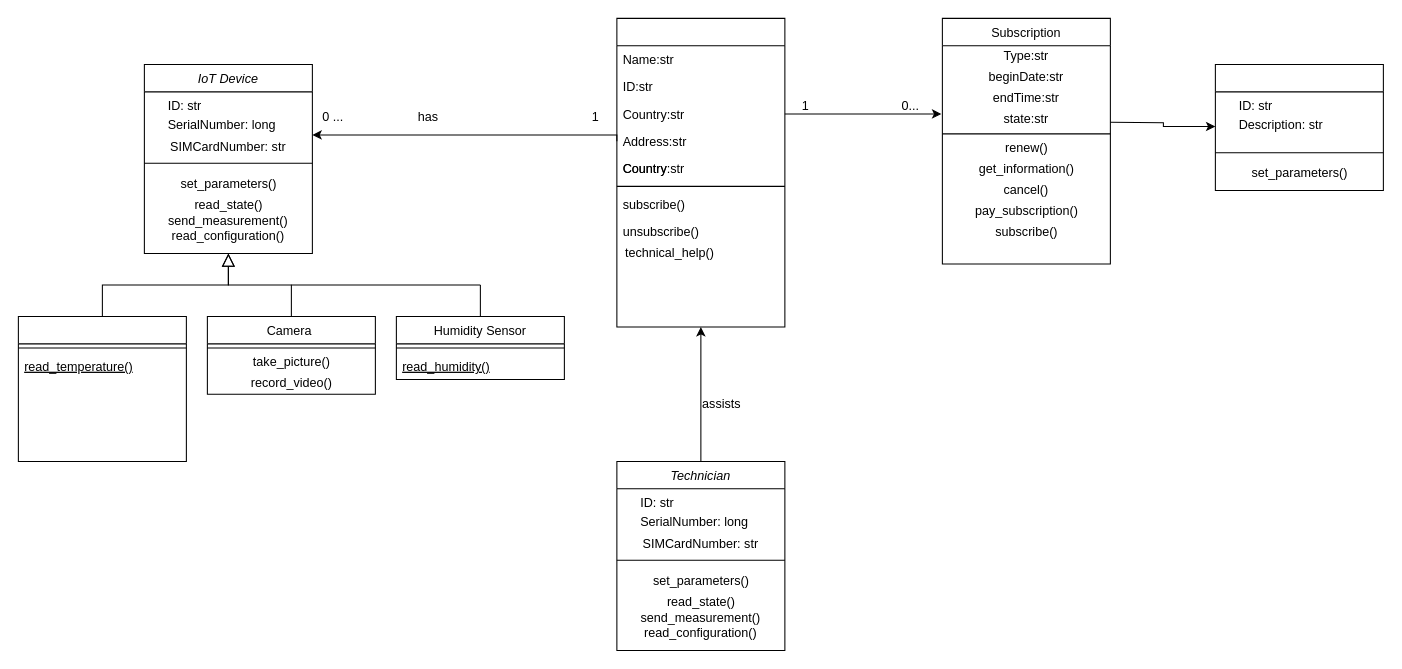
The diagram is 1402 pixels wide and 669 high, and some of its shapes have lost their labels. Each missing label, with the box of its shape:
Customer: (616, 17, 785, 327)
Service: (1214, 64, 1383, 191)
Temperature Sensor: (17, 316, 186, 461)
